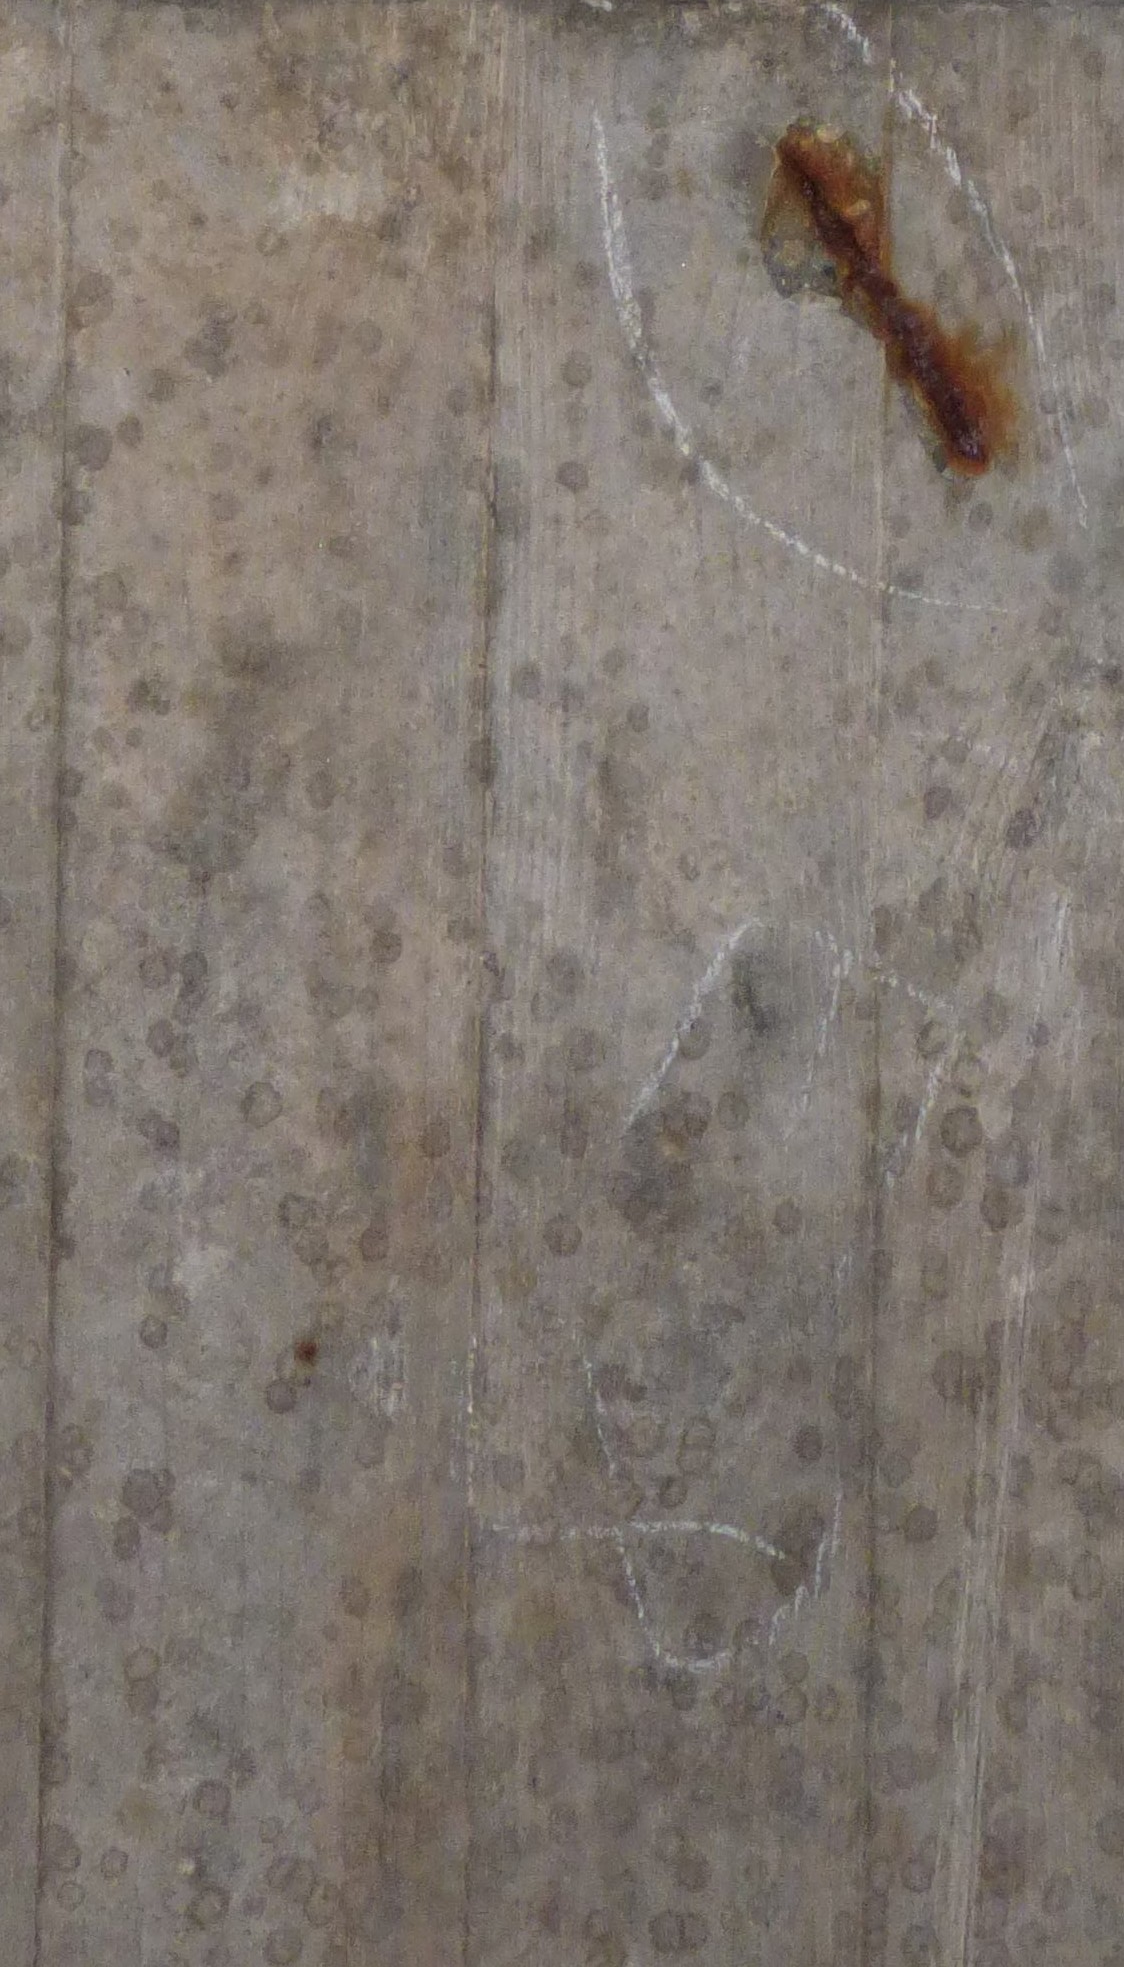Exposed reinforcement: (780, 147, 988, 463)
Spalling: (759, 118, 888, 299)
